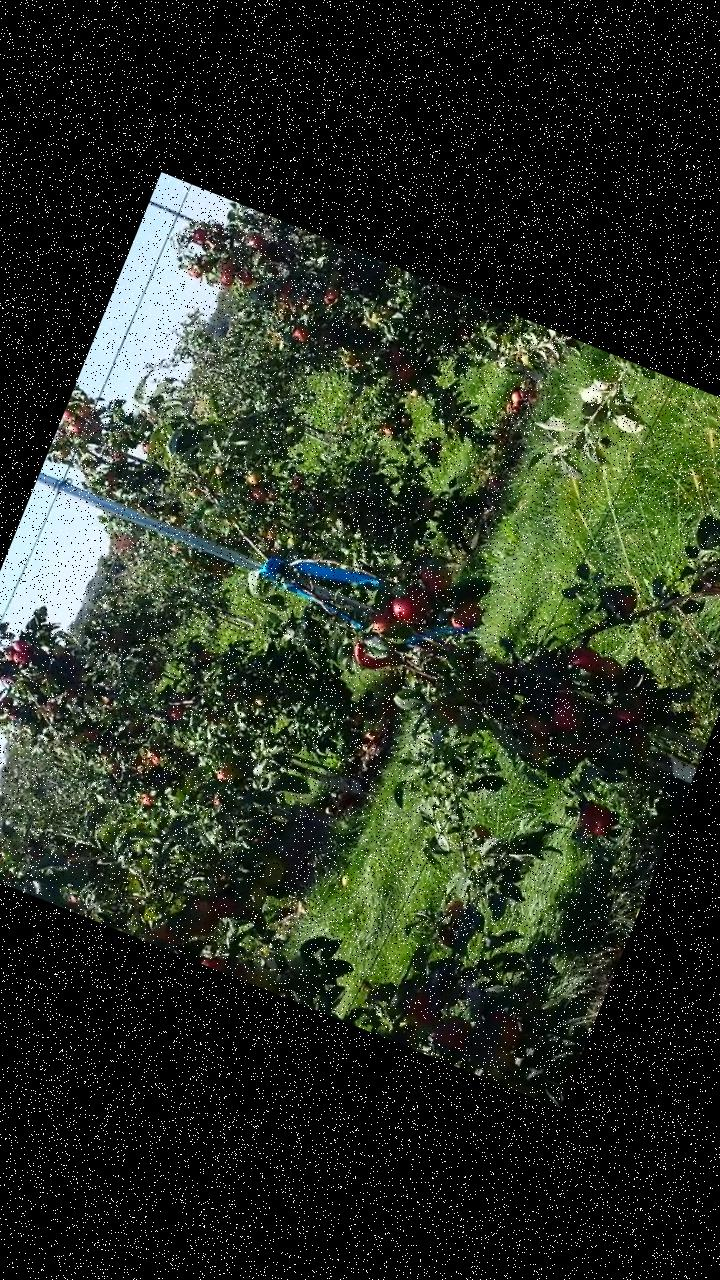Apple: (386, 582, 434, 629), (428, 1011, 474, 1058), (349, 632, 398, 676), (178, 894, 222, 940), (605, 686, 650, 728), (446, 594, 487, 636), (544, 690, 584, 733), (483, 1009, 524, 1050), (402, 990, 444, 1028), (576, 801, 616, 840), (564, 641, 606, 678), (415, 560, 456, 597), (480, 1044, 517, 1085), (368, 596, 404, 638), (426, 694, 461, 730), (254, 852, 288, 889), (238, 879, 270, 917), (141, 922, 181, 952), (622, 724, 653, 758), (594, 654, 626, 684), (204, 891, 237, 920), (528, 738, 554, 766), (198, 949, 228, 973), (520, 713, 550, 737), (432, 923, 458, 950), (440, 895, 465, 922), (613, 590, 638, 614)
